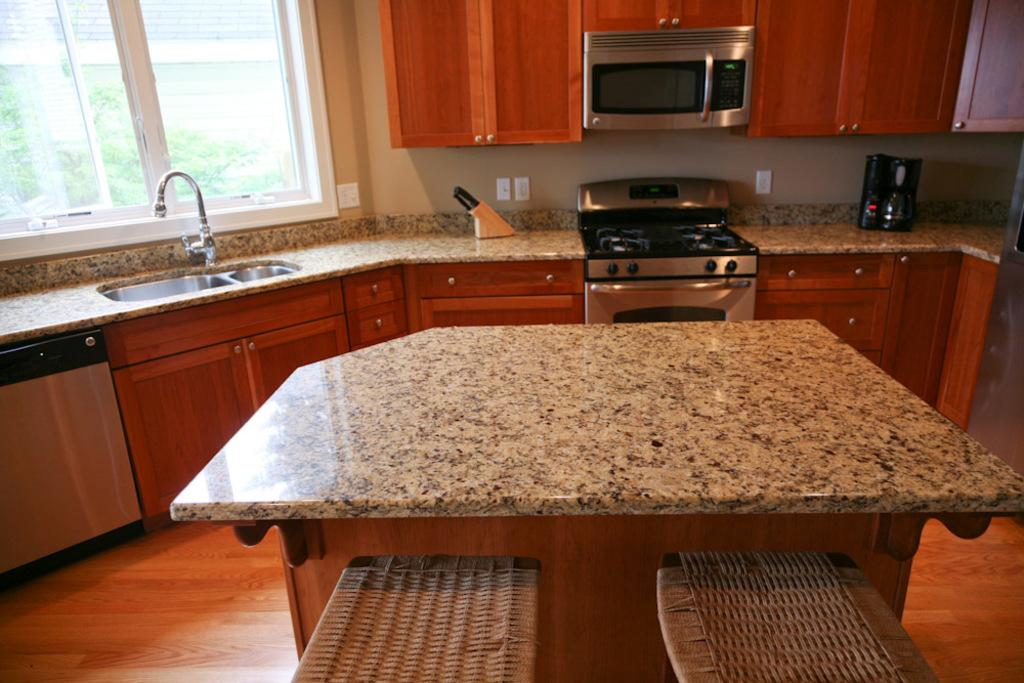cabinet_door: (131, 351, 249, 497), (388, 5, 481, 147), (484, 10, 579, 142), (859, 5, 956, 130), (754, 7, 848, 129), (959, 15, 1024, 131), (889, 248, 939, 380), (414, 265, 578, 295), (248, 332, 342, 380), (777, 300, 881, 338), (764, 258, 878, 292), (665, 3, 751, 33), (587, 3, 665, 34), (354, 311, 402, 338), (350, 276, 396, 304)
handle: (701, 53, 719, 122), (891, 248, 921, 268), (440, 275, 470, 293), (664, 10, 686, 34), (649, 8, 671, 30), (783, 266, 803, 286), (226, 336, 244, 358), (246, 333, 264, 355), (538, 270, 560, 288), (846, 262, 868, 277), (370, 314, 388, 332), (366, 282, 386, 298), (845, 308, 859, 330), (836, 112, 850, 134), (952, 118, 970, 134), (474, 125, 486, 148), (486, 131, 500, 149), (852, 118, 863, 134)
